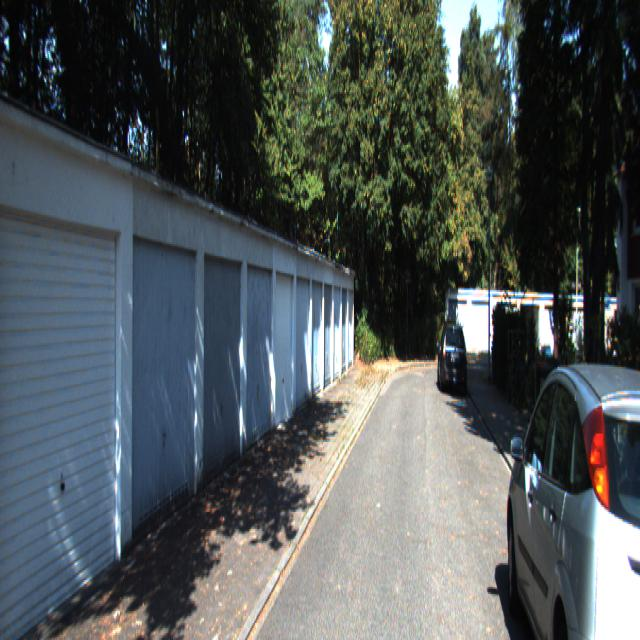Car: (507, 346, 640, 638), (438, 323, 468, 394)
